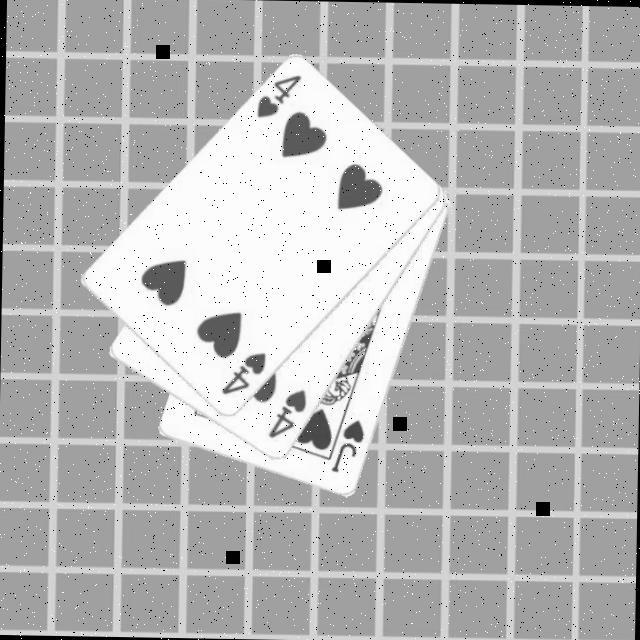4H: (253, 71, 305, 123), (265, 387, 311, 444), (218, 349, 269, 400)
JH: (328, 417, 369, 478)
